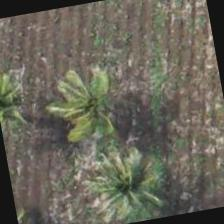Kelapa_Sawit: (40, 48, 144, 152), (78, 132, 182, 223)
